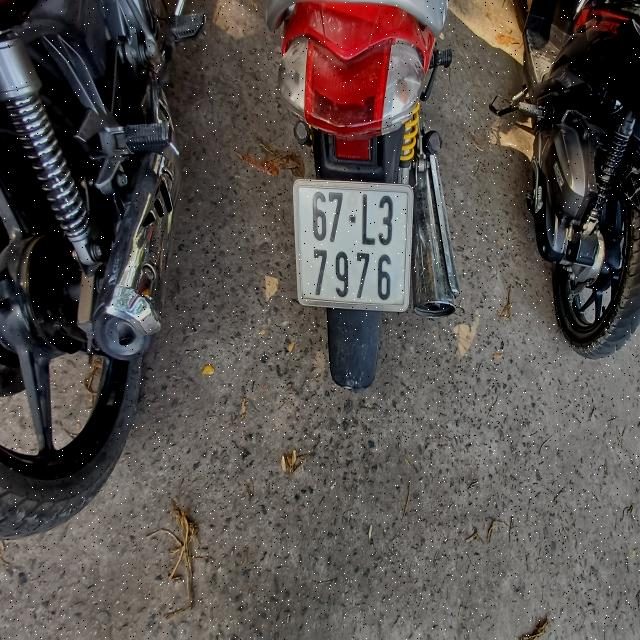3: (377, 194, 398, 246)
6: (310, 188, 328, 242), (376, 254, 393, 300)
7: (310, 250, 331, 296), (354, 250, 372, 300), (328, 190, 343, 242)
9: (332, 250, 351, 298)
L: (361, 193, 378, 248)
